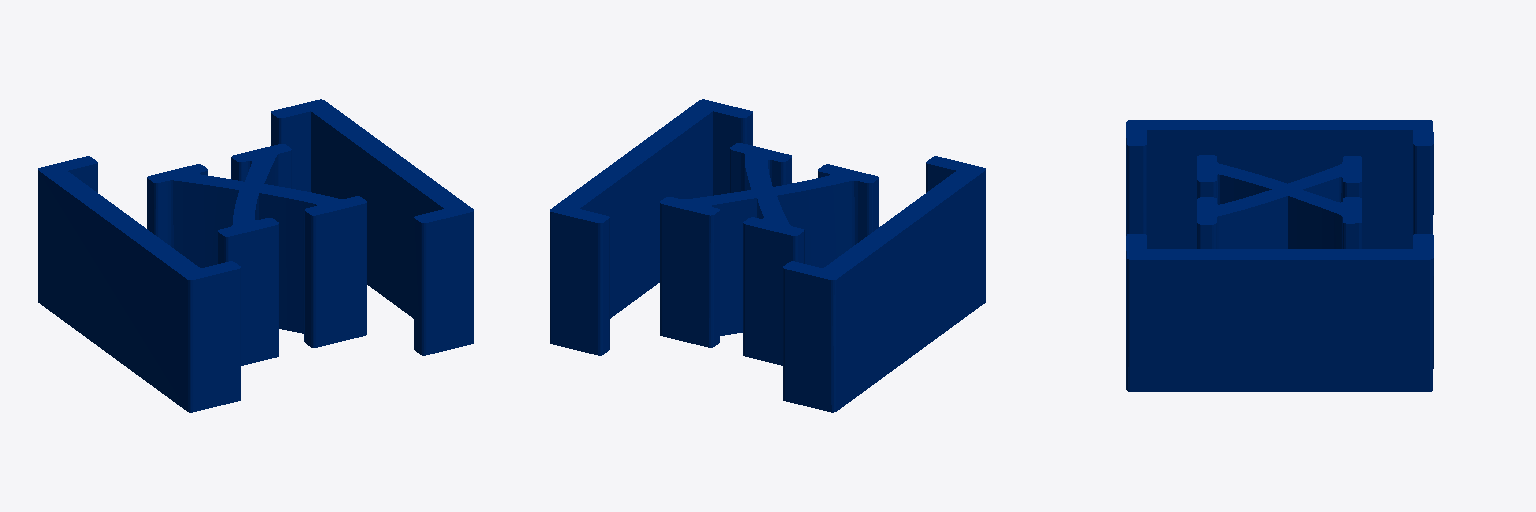
File: item-x.obj
3 views of the same model, side by side, from view 1: azimuth 30°, elevation 25°; view 2: azimuth 150°, elevation 25°; view 3: azimuth 270°, elevation 25° (orthographic).
Parts seen in each view (by area): view 1: Curve.002_CUCurve.002; view 2: Curve.002_CUCurve.002; view 3: Curve.002_CUCurve.002.
Part boxes in pixels (bbox=[...]): Curve.002_CUCurve.002: bbox=[38, 99, 473, 412]; Curve.002_CUCurve.002: bbox=[550, 99, 985, 412]; Curve.002_CUCurve.002: bbox=[1126, 120, 1433, 391].
Size of the model in its own units: 0.0567 by 0.025 by 0.0526.